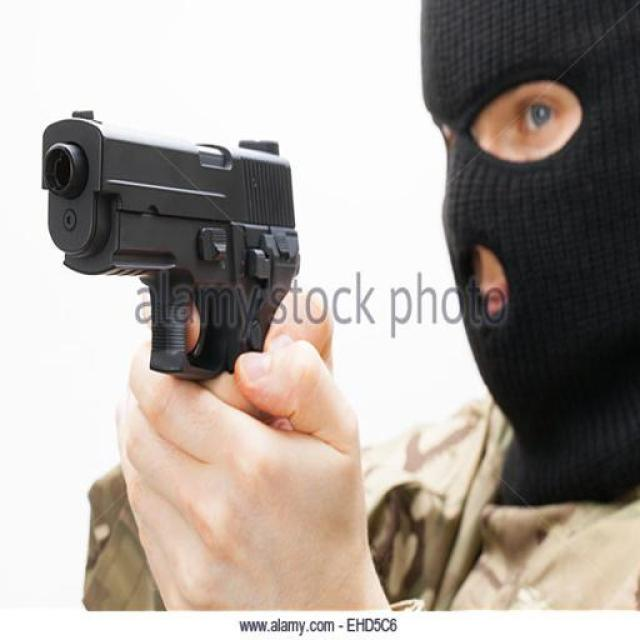pistol: (35, 102, 300, 381)
